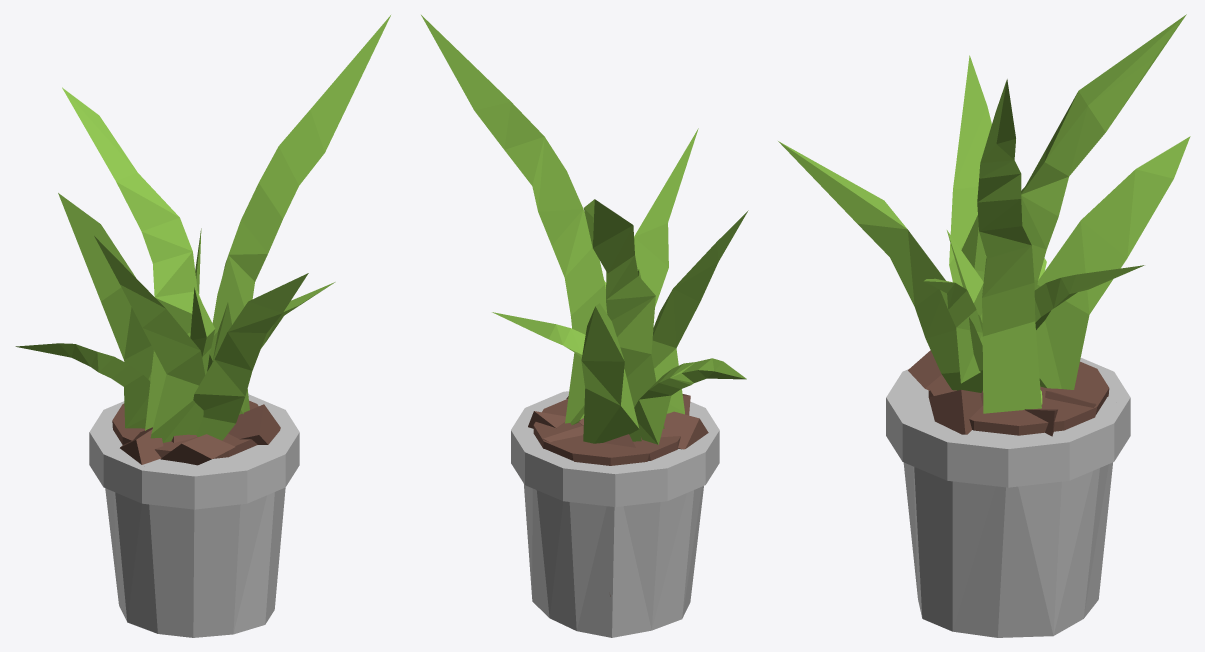
The model's file is plant_sna.fbx.
The picture shows the model from 3 angles, left to right: view 1: azimuth 30°, elevation 25°; view 2: azimuth 150°, elevation 25°; view 3: azimuth 270°, elevation 25°; orthographic projection. The views are drawn at different scales.
Parts seen in each view (by area): view 1: mesh_934986552, group_996376845, mesh_757161812, group_1152046788, group_388786828, group_2065934258, group_576970409, group_320808284, mesh_1989789098, group_1141930997, group_1435305992, group_1417068578 (+3 smaller); view 2: mesh_934986552, group_996376845, mesh_757161812, group_1152046788, group_576970409, group_388786828, mesh_1989789098, group_2065934258, group_320808284, group_861889772, group_970531369; view 3: mesh_934986552, group_996376845, mesh_757161812, group_576970409, group_1152046788, group_2065934258, group_388786828, mesh_1989789098, group_1149979760, group_861889772, group_1141930997, group_1808332827 (+2 smaller).
Part boxes in pixels (box(x1,y1,x2,y2)): mesh_934986552: box(99, 400, 290, 637); group_996376845: box(212, 15, 390, 414); mesh_757161812: box(89, 394, 299, 509); group_1152046788: box(62, 87, 201, 430); group_388786828: box(94, 236, 204, 442); group_2065934258: box(193, 273, 308, 440); group_576970409: box(58, 193, 153, 380); group_320808284: box(15, 343, 150, 428); mesh_1989789098: box(112, 400, 258, 458); group_1141930997: box(228, 404, 280, 444); group_1435305992: box(160, 434, 235, 465); group_1417068578: box(190, 287, 215, 374); mesh_934986552: box(520, 395, 710, 637); group_996376845: box(421, 15, 607, 425); mesh_757161812: box(511, 391, 719, 506); group_1152046788: box(583, 199, 664, 428); group_576970409: box(581, 303, 641, 443); group_388786828: box(651, 210, 748, 414); mesh_1989789098: box(533, 399, 680, 596); group_2065934258: box(634, 128, 698, 306); group_320808284: box(634, 358, 746, 444); group_861889772: box(492, 312, 585, 357); group_970531369: box(661, 411, 708, 449); mesh_934986552: box(897, 371, 1119, 637); group_996376845: box(977, 79, 1042, 413); mesh_757161812: box(886, 358, 1130, 487); group_576970409: box(1036, 136, 1190, 389); group_1152046788: box(1021, 14, 1186, 290); group_2065934258: box(778, 141, 982, 392); group_388786828: box(949, 55, 991, 286); mesh_1989789098: box(928, 361, 1109, 435); group_1149979760: box(924, 278, 982, 383); group_861889772: box(1034, 265, 1144, 329); group_1141930997: box(928, 389, 982, 434); group_1808332827: box(947, 230, 983, 331).
Bounding box in the file's own units: 44.63 × 65.71 × 38.87.
